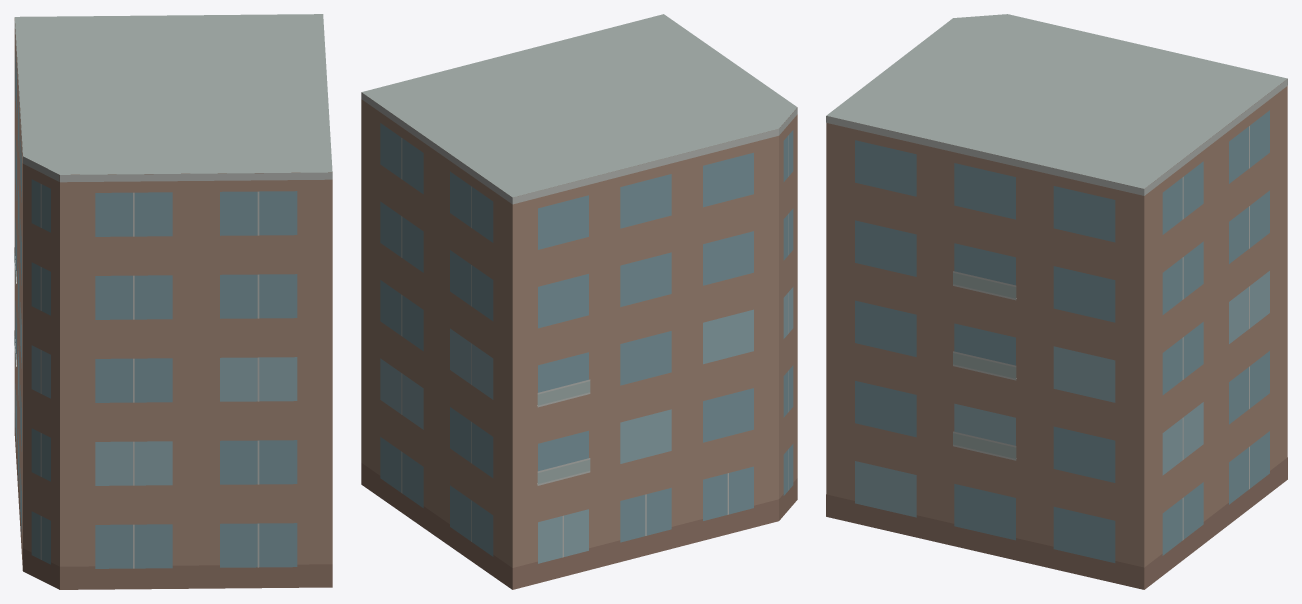
The model's file is survey-upis-32878573.glb.
The picture shows the model from 3 angles, left to right: view 1: azimuth 30°, elevation 25°; view 2: azimuth 150°, elevation 25°; view 3: azimuth 270°, elevation 25°; orthographic projection. The views are drawn at different scales.
Parts seen in each view (by area): view 1: survey-upis-32878573.tmp; view 2: survey-upis-32878573.tmp; view 3: survey-upis-32878573.tmp.
Boxes of the visible parts, x1,y1,x2,y2 form: survey-upis-32878573.tmp: (14,14,332,589); survey-upis-32878573.tmp: (361,14,797,589); survey-upis-32878573.tmp: (826,14,1287,589).
Size of the model in its own units: 12.92 by 13.8 by 14.41.
